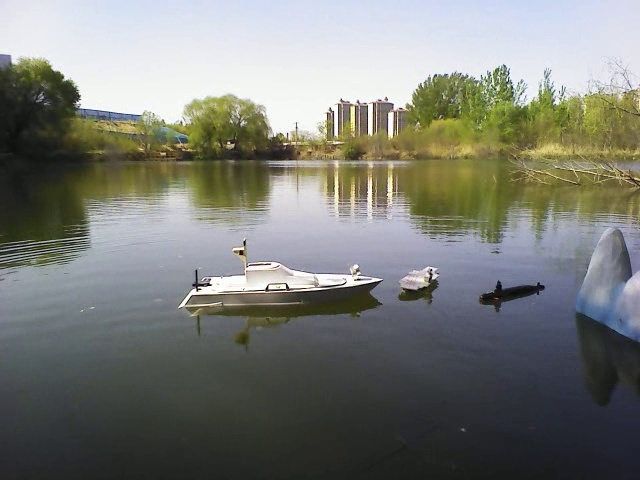aircraft_carrier: (398, 255, 442, 299)
boat: (175, 253, 385, 316)
iceberg: (575, 208, 638, 350)
submarine: (480, 269, 544, 305)
